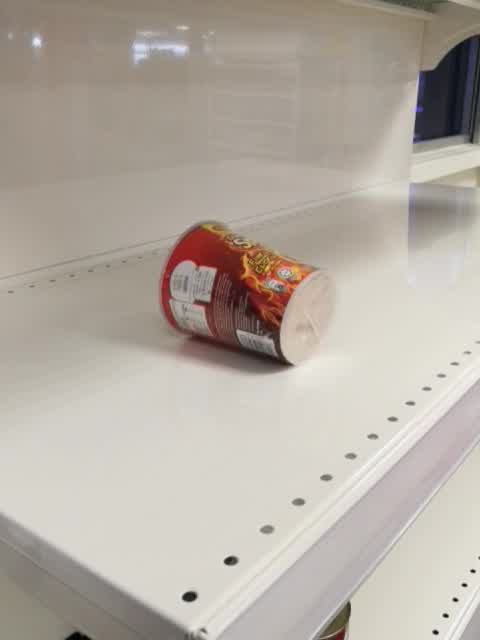maggi: (157, 219, 337, 372)
